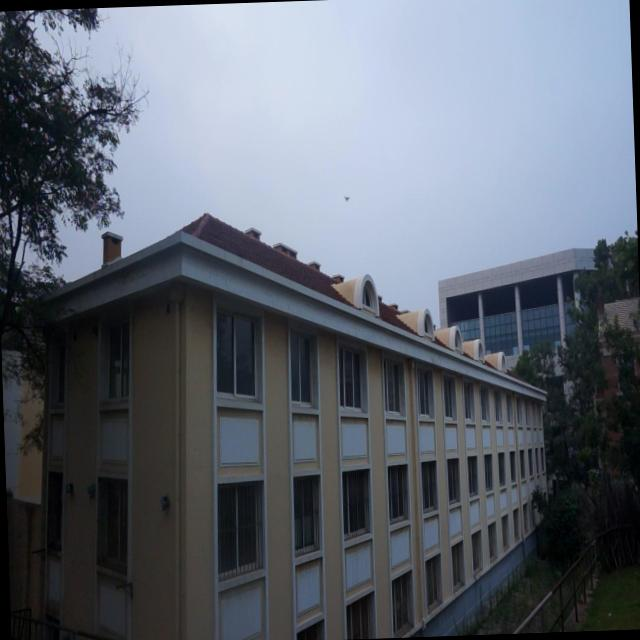drone: (340, 190, 352, 204)
